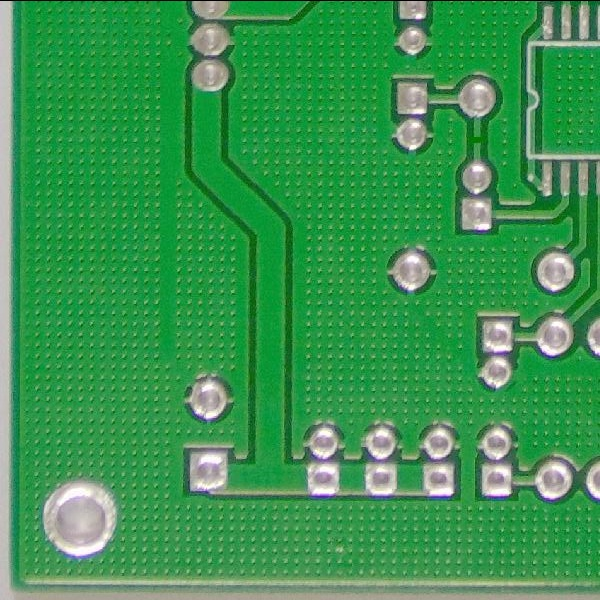open_circuit: (468, 130, 487, 150)
